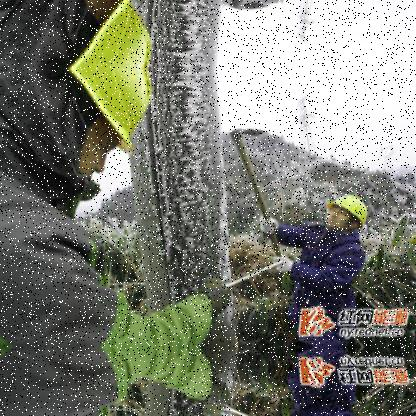Helmet: (8, 66, 160, 209), (318, 188, 374, 240)
